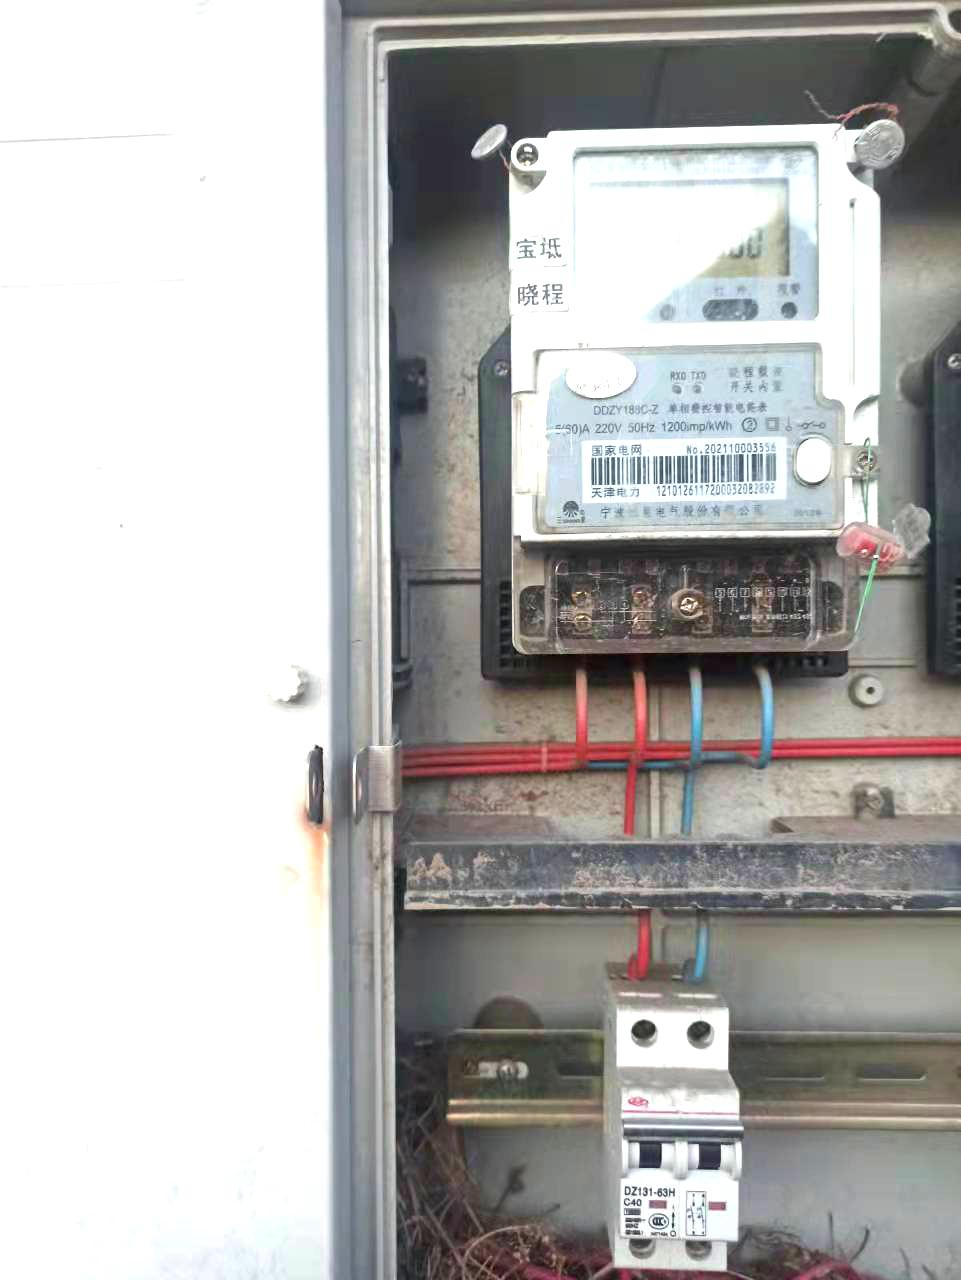digital: (507, 122, 866, 541)
